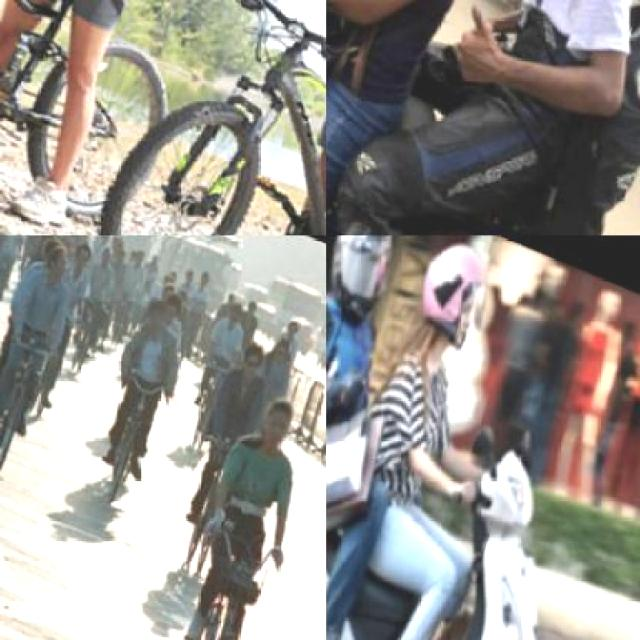With Helmet: (388, 235, 509, 360), (326, 235, 417, 328)
Without Helmet: (240, 385, 298, 452), (135, 296, 174, 342), (230, 335, 268, 382), (37, 242, 75, 286), (217, 296, 245, 330)
